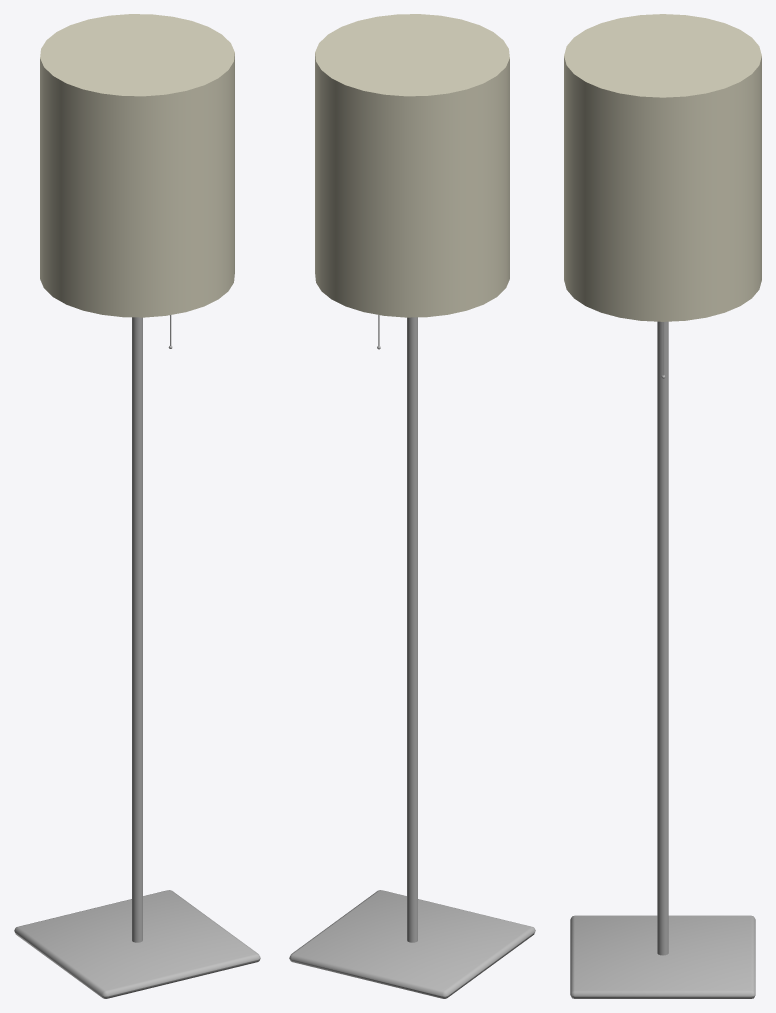
The model's file is IKEA-ORGEL_Lampadaire-3D.obj.
3 views of the same model, side by side, from view 1: azimuth 30°, elevation 25°; view 2: azimuth 150°, elevation 25°; view 3: azimuth 270°, elevation 25° (orthographic).
Parts seen in each view (by area): view 1: ______001, ORGEL_Lampadaire; view 2: ______001, ORGEL_Lampadaire; view 3: ______001, ORGEL_Lampadaire.
Boxes of the visible parts, x1,y1,x2,y2 form: ______001: (40, 14, 234, 317); ORGEL_Lampadaire: (14, 315, 260, 998); ______001: (315, 14, 509, 317); ORGEL_Lampadaire: (289, 315, 535, 998); ______001: (564, 14, 761, 321); ORGEL_Lampadaire: (570, 321, 755, 998).
Bounding box in the file's own units: 320 × 1615 × 320.
